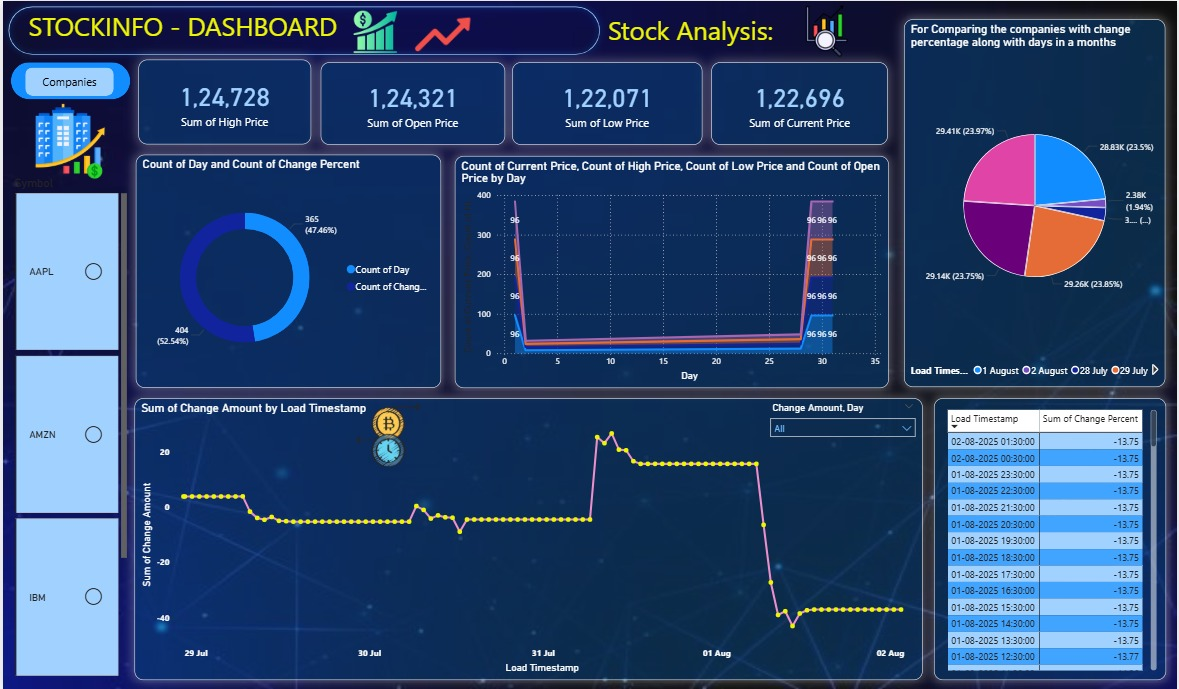

The dashboard page shown, as its layout file describes it:
{"tool":"powerbi","page":{"name":"Page 1","canvas":[1700,1000],"ordinal":0},"visuals":[{"type":"lineChart","fields":{"Y":["Sum(Data101.Change Amount)"],"Category":["Data101.Load Timestamp"]},"box":[193.3,576.3,1138.1,408.3],"z":0},{"type":"textbox","box":[31.4,5.7,764.3,68.6],"z":1000},{"type":"textbox","box":[872.6,10.8,321.6,66.8],"z":2000},{"type":"shape","box":[0,0,872.9,85.7],"z":3000},{"type":"card","fields":{"Values":["Sum(Data101.High Price)"]},"box":[197.1,85.7,250,122.9],"z":4000},{"type":"card","fields":{"Values":["Sum(Data101.Low Price)"]},"box":[738.6,88.6,275.7,120],"z":5000},{"type":"card","fields":{"Values":["Sum(Data101.Open Price)"]},"box":[460,88.6,267.1,120],"z":6000},{"type":"card","fields":{"Values":["Sum(Data101.Current Price)"]},"box":[1026.1,88.2,255.8,120],"z":7000},{"type":"image","box":[498.6,0,82.9,88.6],"z":8000},{"type":"image","box":[1147.2,0,92.5,86.8],"z":9000},{"type":"donutChart","fields":{"Y":["CountNonNull(Data101.Load Timestamp.Variation.Date Hierarchy.Day)","CountNonNull(Data101.Change Percent)"]},"box":[193.3,222.2,442.6,337.8],"z":10000},{"type":"shape","box":[11.1,88.9,173.1,54],"z":11000},{"type":"slicer","fields":{"Values":["Data101.Change Amount","Data101.Load Timestamp.Variation.Date Hierarchy.Day"]},"box":[1101.9,575.5,230.2,88.7],"z":12000},{"type":"stackedAreaChart","fields":{"Category":["Data101.Load Timestamp.Variation.Date Hierarchy.Day"],"Y":["CountNonNull(Data101.Current Price)","CountNonNull(Data101.High Price)","CountNonNull(Data101.Low Price)","CountNonNull(Data101.Open Price)"]},"box":[654,224,628.7,336],"z":13000},{"type":"advancedSlicerVisual","fields":{"Values":["Data101.Symbol"]},"box":[10.8,254.7,173.4,729.9],"z":14000},{"type":"actionButton","box":[31.8,95.3,128.6,41.3],"z":15000},{"type":"pieChart","title":"For Comparing the companies with change percentage along with days in a months","fields":{"Category":["Data101.Load Timestamp.Variation.Date Hierarchy.Day","Data101.Load Timestamp.Variation.Date Hierarchy.Month"],"Y":["Sum(Data101.Current Price)"]},"box":[1305.8,26.9,378.8,532.7],"z":16000},{"type":"pivotTable","title":"Table to show percentage by days in months","fields":{"Values":["Sum(Data101.Change Percent)"],"Rows":["Data101.Load Timestamp"]},"box":[1349.5,576.3,336,408.3],"z":17000},{"type":"image","box":[580.8,0,111.5,96.2],"z":18000},{"type":"image","box":[478.8,576.9,157.7,103.8],"z":19000},{"type":"image","box":[34.6,142.3,126.9,123.1],"z":20000}]}

Visuals, with their boxes in screenshot pixels (x1, y1, x2, y2), scaled from the page's 1700x1000 canvas onto the 1179x689 screenshot:
lineChart - Sum(Data101.Change Amount) x Data101.Load Timestamp: <bbox>134, 397, 923, 678</bbox>
textbox: <bbox>22, 4, 552, 51</bbox>
textbox: <bbox>605, 7, 828, 53</bbox>
shape: <bbox>0, 0, 605, 59</bbox>
card - Sum(Data101.High Price): <bbox>137, 59, 310, 144</bbox>
card - Sum(Data101.Low Price): <bbox>512, 61, 703, 144</bbox>
card - Sum(Data101.Open Price): <bbox>319, 61, 504, 144</bbox>
card - Sum(Data101.Current Price): <bbox>712, 61, 889, 143</bbox>
image: <bbox>346, 0, 403, 61</bbox>
image: <bbox>796, 0, 860, 60</bbox>
donutChart - CountNonNull(Data101.Load Timestamp.Variation.Date Hierarchy.Day) x CountNonNull(Data101.Change Percent): <bbox>134, 153, 441, 386</bbox>
shape: <bbox>8, 61, 128, 98</bbox>
slicer - Data101.Change Amount x Data101.Load Timestamp.Variation.Date Hierarchy.Day: <bbox>764, 397, 924, 458</bbox>
stackedAreaChart - Data101.Load Timestamp.Variation.Date Hierarchy.Day x CountNonNull(Data101.Current Price): <bbox>454, 154, 890, 386</bbox>
advancedSlicerVisual - Data101.Symbol: <bbox>7, 175, 128, 678</bbox>
actionButton: <bbox>22, 66, 111, 94</bbox>
"For Comparing the companies with change percentage along with days in a months" pieChart: <bbox>906, 19, 1168, 386</bbox>
"Table to show percentage by days in months" pivotTable: <bbox>936, 397, 1169, 678</bbox>
image: <bbox>403, 0, 480, 66</bbox>
image: <bbox>332, 397, 441, 469</bbox>
image: <bbox>24, 98, 112, 183</bbox>
